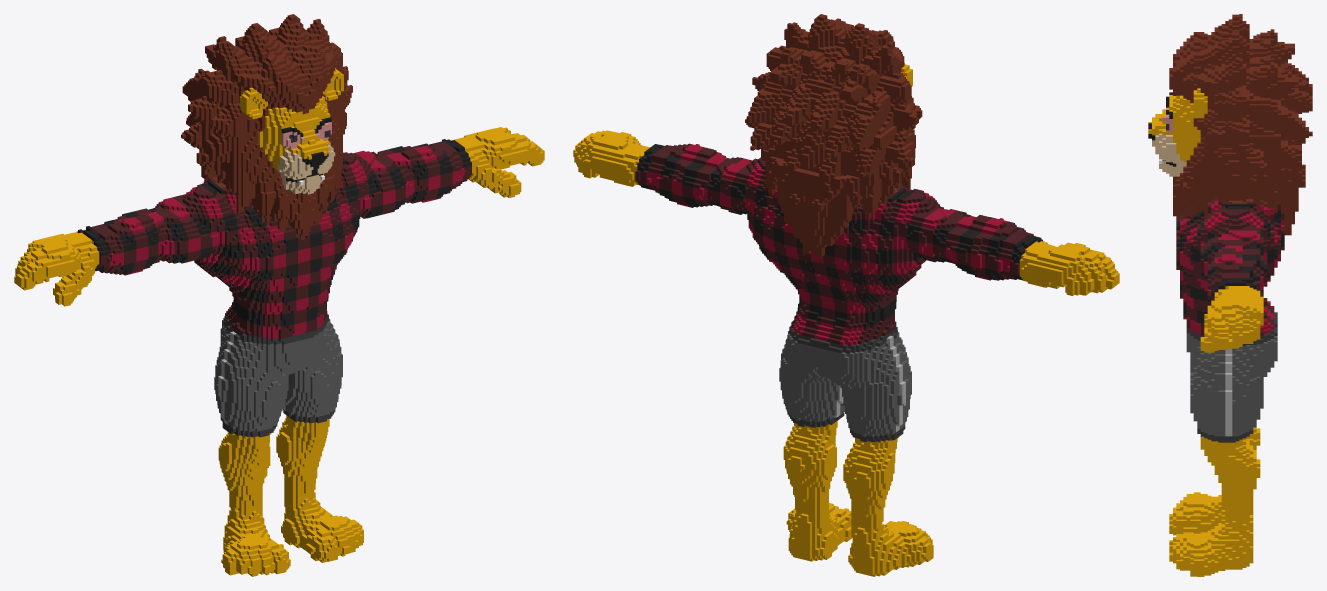
3 views of the same model, side by side, from view 1: azimuth 30°, elevation 25°; view 2: azimuth 150°, elevation 25°; view 3: azimuth 270°, elevation 25° (orthographic). The views are drawn at different scales.
Parts seen in each view (by area): view 1: standard; view 2: standard; view 3: standard.
Part boxes in pixels (left/top/right/bottom): standard: left=14, top=14, right=544, bottom=576; standard: left=573, top=14, right=1119, bottom=576; standard: left=1148, top=14, right=1312, bottom=576.
Size of the model in its own units: 17.2 by 16.5 by 4.7.
5 materials, 5 textured.
